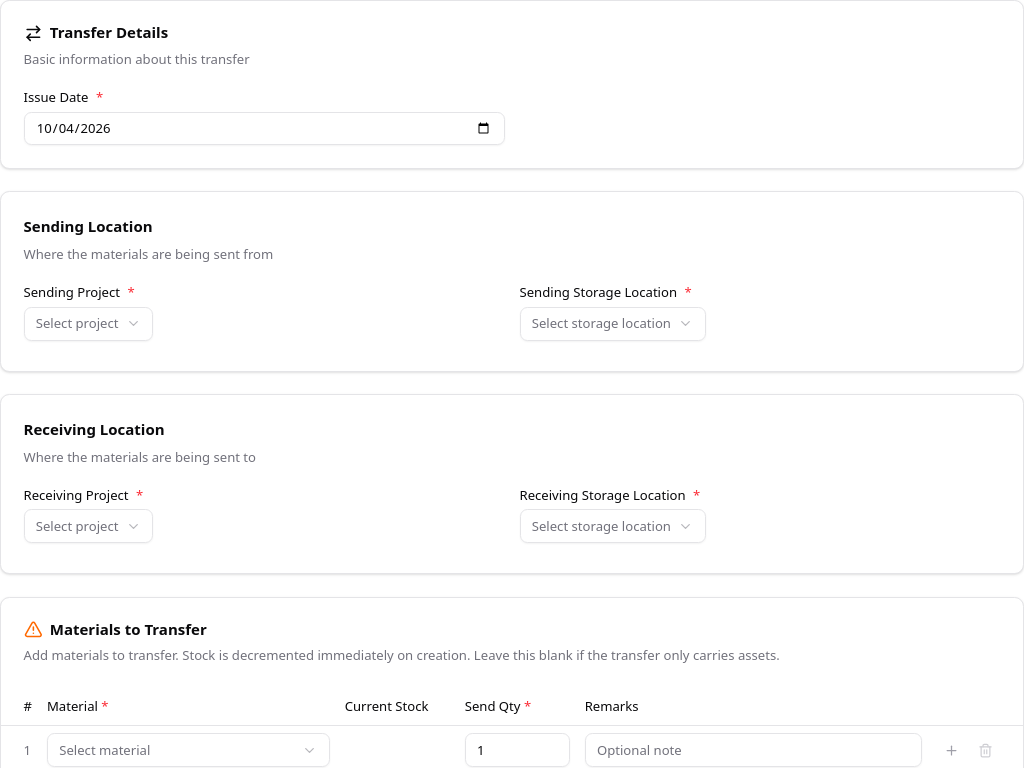
SiteTransferForm stock › shows the balance at the sending project and location, not the organisation total
Press ArrowDown in the dropdown labelled "Select project" below "Where the materials are being sent from", box x1=24 y1=307 x2=153 y2=341
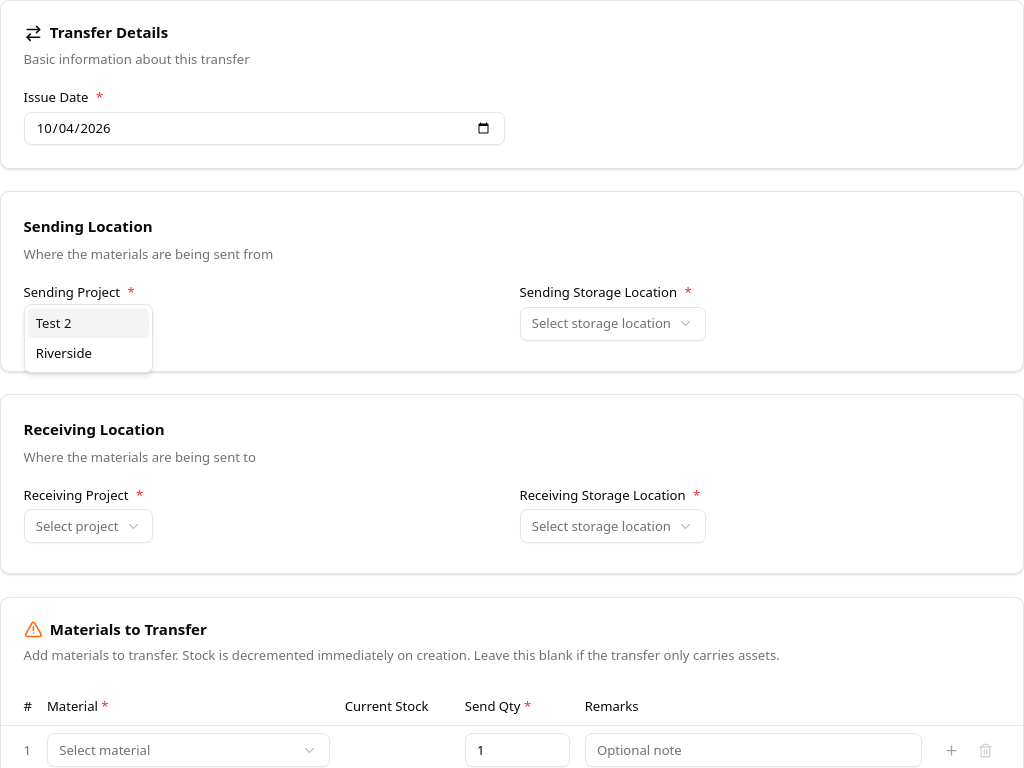
Click the option "Test 2" at (88, 323), box x1=28 y1=308 x2=149 y2=338
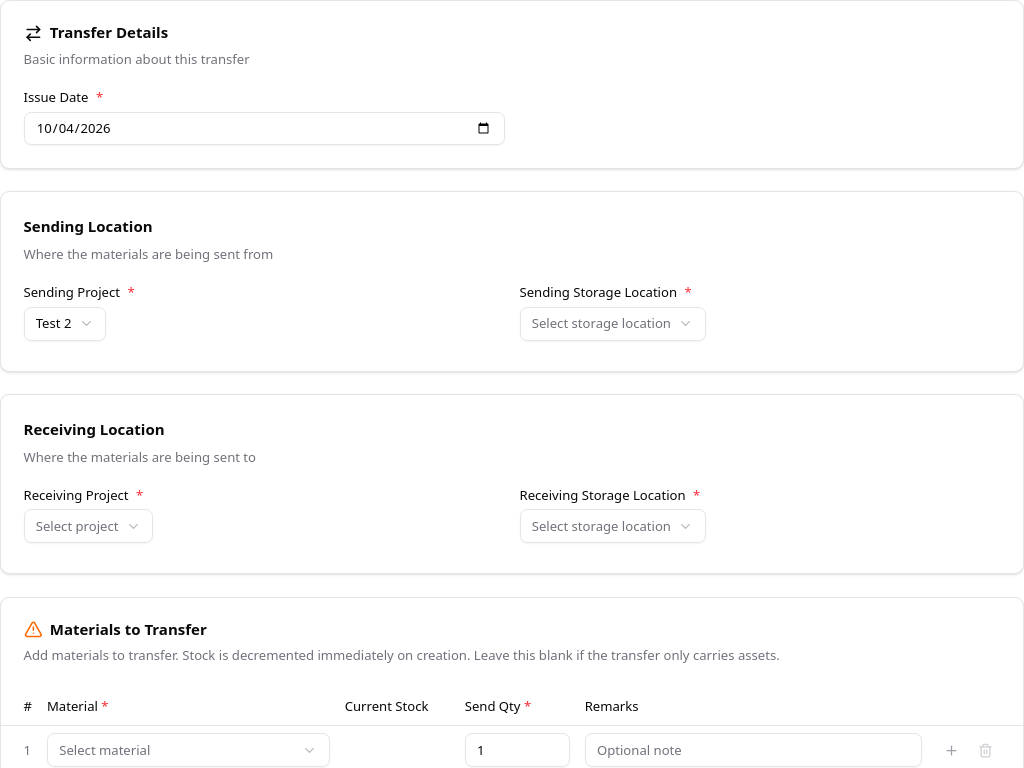
Press ArrowDown in the dropdown labelled "Select storage location" below "Sending Storage Location", box x1=520 y1=307 x2=706 y2=341
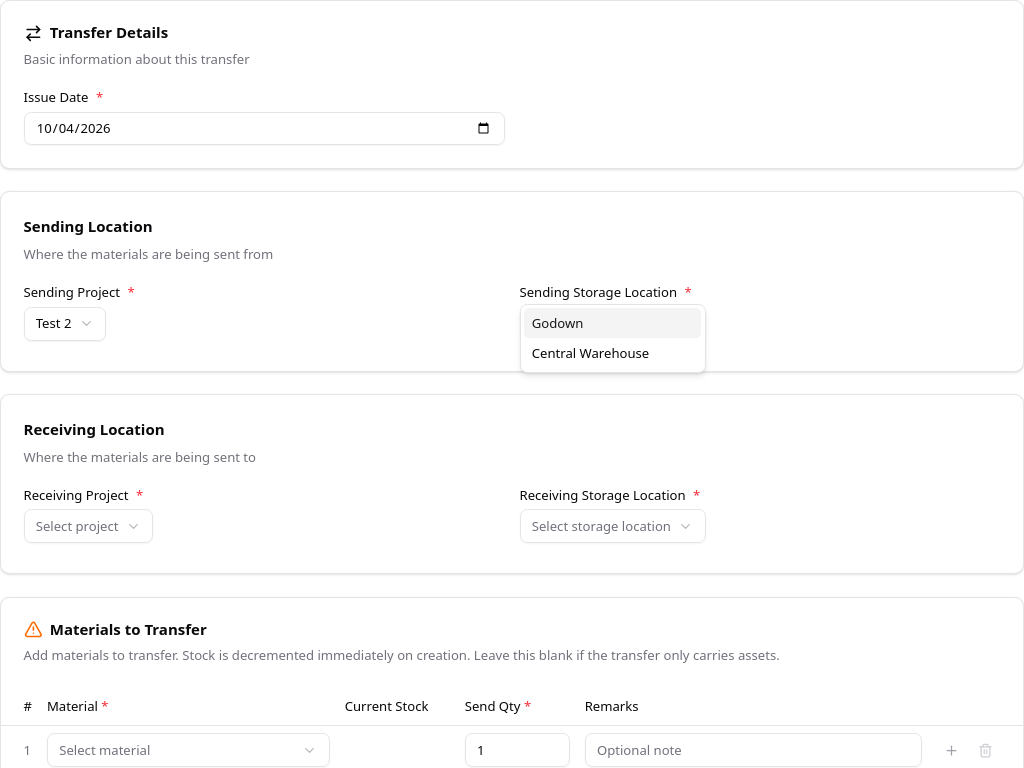
Click the option "Godown" at (613, 323), box x1=524 y1=308 x2=701 y2=338
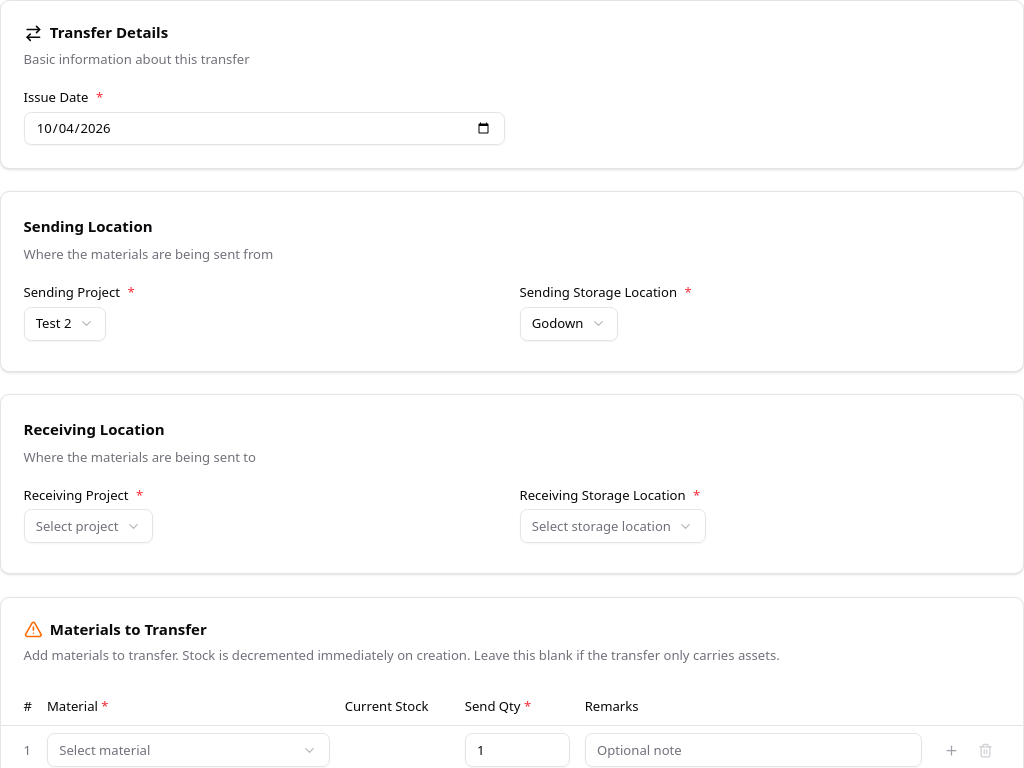
Press ArrowDown in the dropdown labelled "Select material", box x1=47 y1=733 x2=330 y2=767
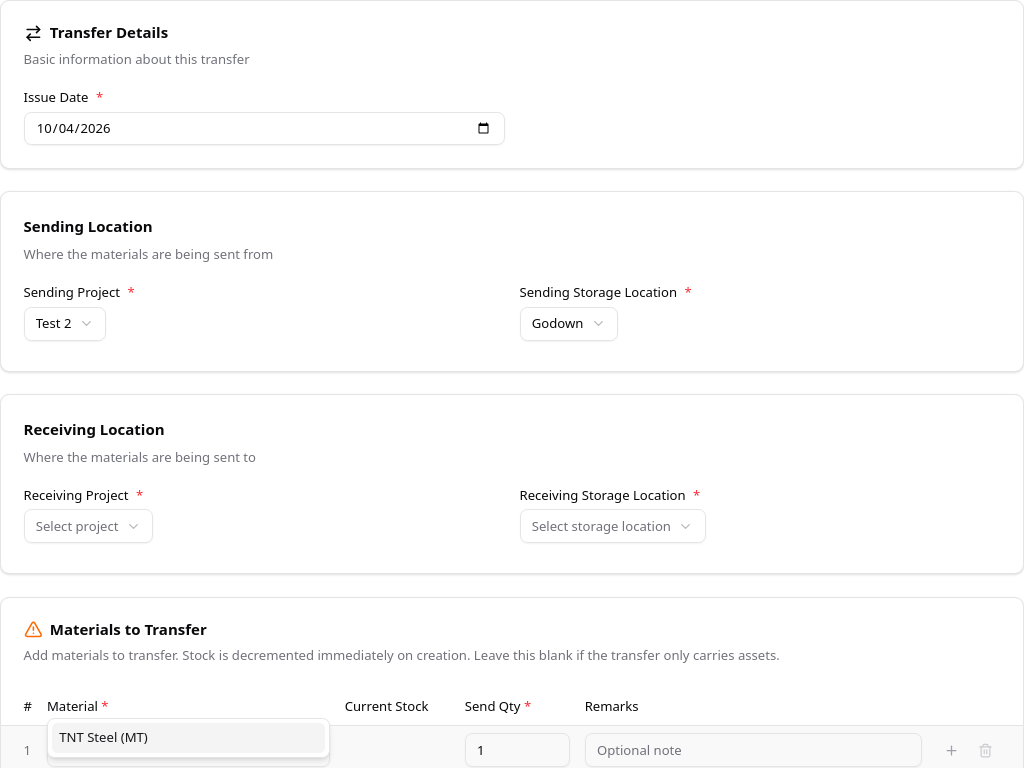
Click the option "TNT Steel (MT)" at (88, 737), box x1=52 y1=723 x2=325 y2=753
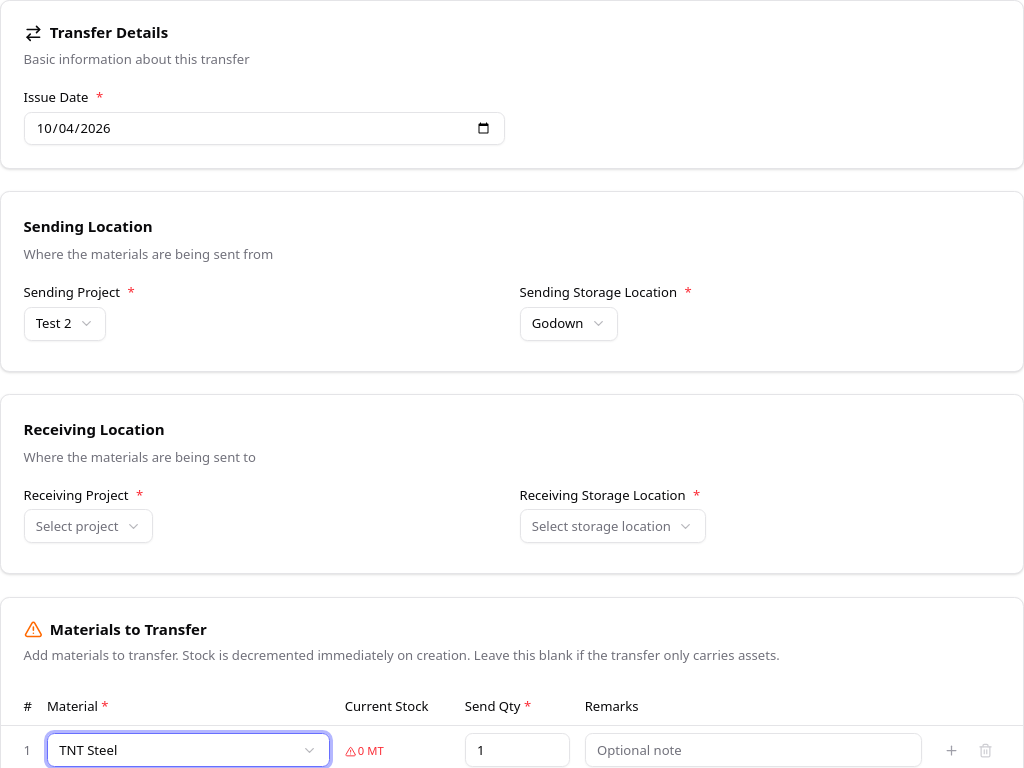
Expected: the text "0 MT" is shown, x1=345 y1=743 x2=384 y2=758
